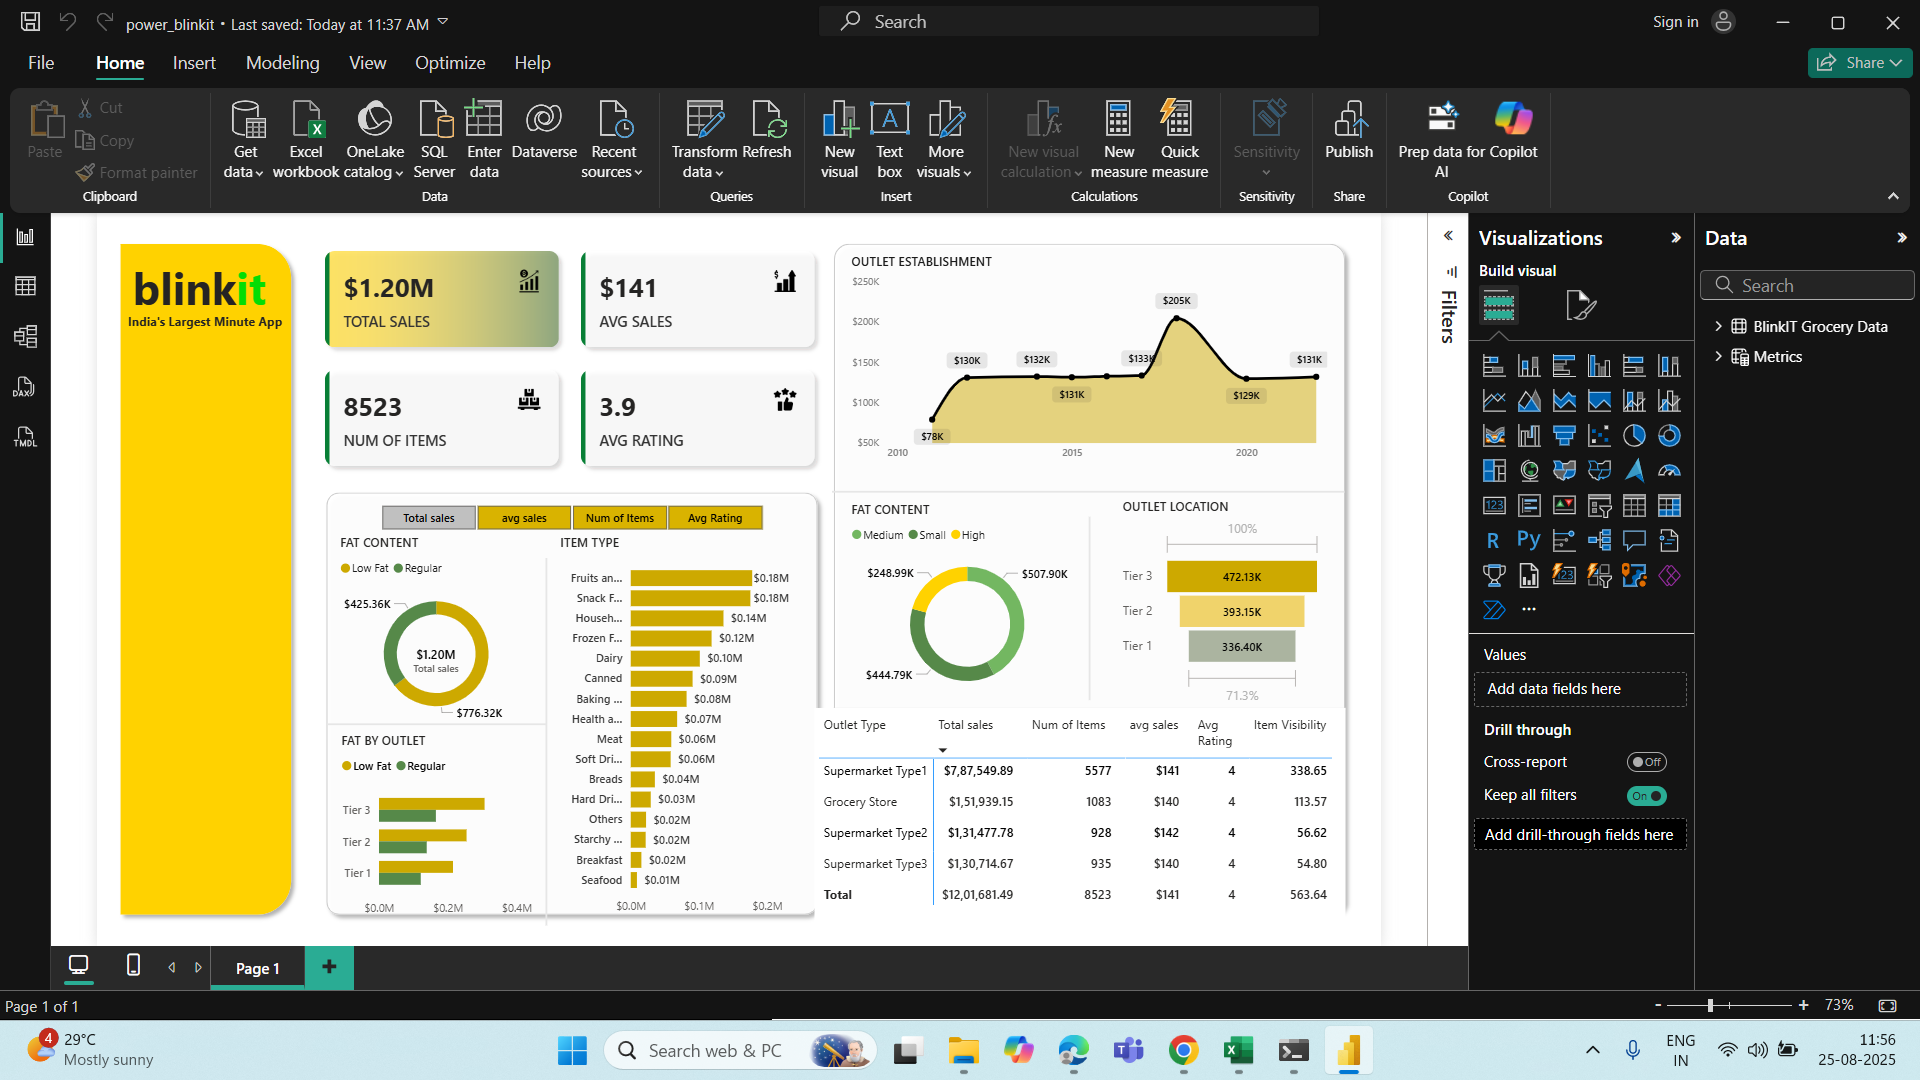

The dashboard page shown, as its layout file describes it:
{"tool":"powerbi","page":{"name":"Page 1","canvas":[1400,800],"ordinal":0},"visuals":[{"type":"shape","box":[16.4,24.5,204.5,749.8],"z":0},{"type":"textbox","box":[34.1,43.6,165,73.6],"z":1000},{"type":"textbox","box":[24.5,103.6,186.8,28.6],"z":2000},{"type":"cardVisual","fields":{"Data":["BlinkIT Grocery Data.Total sales","BlinkIT Grocery Data.avg sales","BlinkIT Grocery Data.Num of Items","BlinkIT Grocery Data.Avg Rating"]},"box":[231.8,24.5,569.9,269.9],"z":3000},{"type":"shape","box":[241.3,295.8,553.5,478.5],"z":4000},{"type":"donutChart","title":"FAT CONTENT","fields":{"Y":["BlinkIT Grocery Data.Total sales"],"Category":["BlinkIT Grocery Data.Item Fat Content"]},"box":[260.4,350.4,219.5,215.4],"z":5000},{"type":"slicer","fields":{"Values":["Metrics.Metrics"]},"box":[284.6,312,464.5,38.7],"z":6000},{"type":"cardVisual","fields":{"Data":["BlinkIT Grocery Data.Total sales"]},"box":[327.2,455.4,85.9,55.9],"z":7000},{"type":"clusteredBarChart","title":"FAT BY OUTLET ","fields":{"Y":["BlinkIT Grocery Data.Total sales"],"Category":["BlinkIT Grocery Data.Outlet Location Type"],"Series":["BlinkIT Grocery Data.Item Fat Content"]},"box":[261.8,565.8,218.1,211.3],"z":8000},{"type":"shape","box":[250.9,549.4,239.9,16.4],"z":9000},{"type":"shape","box":[479.9,376.3,20.5,400.8],"z":10000},{"type":"barChart","title":"ITEM TYPE","fields":{"Y":["BlinkIT Grocery Data.Total sales"],"Category":["BlinkIT Grocery Data.Item Type"]},"box":[500.3,350.4,276.8,424],"z":11000},{"type":"shape","box":[794.8,24.5,575.3,749.8],"z":12000},{"type":"lineChart","title":"OUTLET ESTABLISHMENT","fields":{"Y":["BlinkIT Grocery Data.Total sales"],"Category":["BlinkIT Grocery Data.Outlet Establishment Year"]},"box":[818,43.6,529,234.5],"z":13000},{"type":"shape","box":[801.6,295.8,559,16.4],"z":14000},{"type":"donutChart","title":"FAT CONTENT","fields":{"Y":["BlinkIT Grocery Data.Total sales"],"Category":["BlinkIT Grocery Data.Outlet Size"]},"box":[818.3,313.6,262.8,224],"z":15000},{"type":"shape","box":[1081.1,331.5,3,200.1],"z":15001},{"type":"funnel","title":"OUTLET LOCATION","fields":{"Category":["BlinkIT Grocery Data.Outlet Location Type"],"Y":["Sum(BlinkIT Grocery Data.Sales)"]},"box":[1113.9,310.6,227,230],"z":15002},{"type":"shape","box":[803.3,531.6,558.5,17.9],"z":15003},{"type":"pivotTable","fields":{"Rows":["BlinkIT Grocery Data.Outlet Type"],"Values":["BlinkIT Grocery Data.Total sales","BlinkIT Grocery Data.Num of Items","BlinkIT Grocery Data.avg sales","BlinkIT Grocery Data.Avg Rating","Sum(BlinkIT Grocery Data.Item Visibility)"]},"box":[782.4,540.5,579.4,241.9],"z":15004}]}

Visuals, with their boxes on the page's 1400x800 design canvas (x1, y1, x2, y2). These are canvas units, not pixel positions in the 1920x1080 screenshot, which may show the page scaled, cropped or inside an application window:
shape: x1=16 y1=24 x2=221 y2=774
textbox: x1=34 y1=44 x2=199 y2=117
textbox: x1=24 y1=104 x2=211 y2=132
cardVisual - BlinkIT Grocery Data.Total sales x BlinkIT Grocery Data.avg sales: x1=232 y1=24 x2=802 y2=294
shape: x1=241 y1=296 x2=795 y2=774
"FAT CONTENT" donutChart: x1=260 y1=350 x2=480 y2=566
slicer - Metrics.Metrics: x1=285 y1=312 x2=749 y2=351
cardVisual - BlinkIT Grocery Data.Total sales: x1=327 y1=455 x2=413 y2=511
"FAT BY OUTLET " clusteredBarChart: x1=262 y1=566 x2=480 y2=777
shape: x1=251 y1=549 x2=491 y2=566
shape: x1=480 y1=376 x2=500 y2=777
"ITEM TYPE" barChart: x1=500 y1=350 x2=777 y2=774
shape: x1=795 y1=24 x2=1370 y2=774
"OUTLET ESTABLISHMENT" lineChart: x1=818 y1=44 x2=1347 y2=278
shape: x1=802 y1=296 x2=1361 y2=312
"FAT CONTENT" donutChart: x1=818 y1=314 x2=1081 y2=538
shape: x1=1081 y1=332 x2=1084 y2=532
"OUTLET LOCATION" funnel: x1=1114 y1=311 x2=1341 y2=541
shape: x1=803 y1=532 x2=1362 y2=550
pivotTable - BlinkIT Grocery Data.Outlet Type x BlinkIT Grocery Data.Total sales: x1=782 y1=540 x2=1362 y2=782
